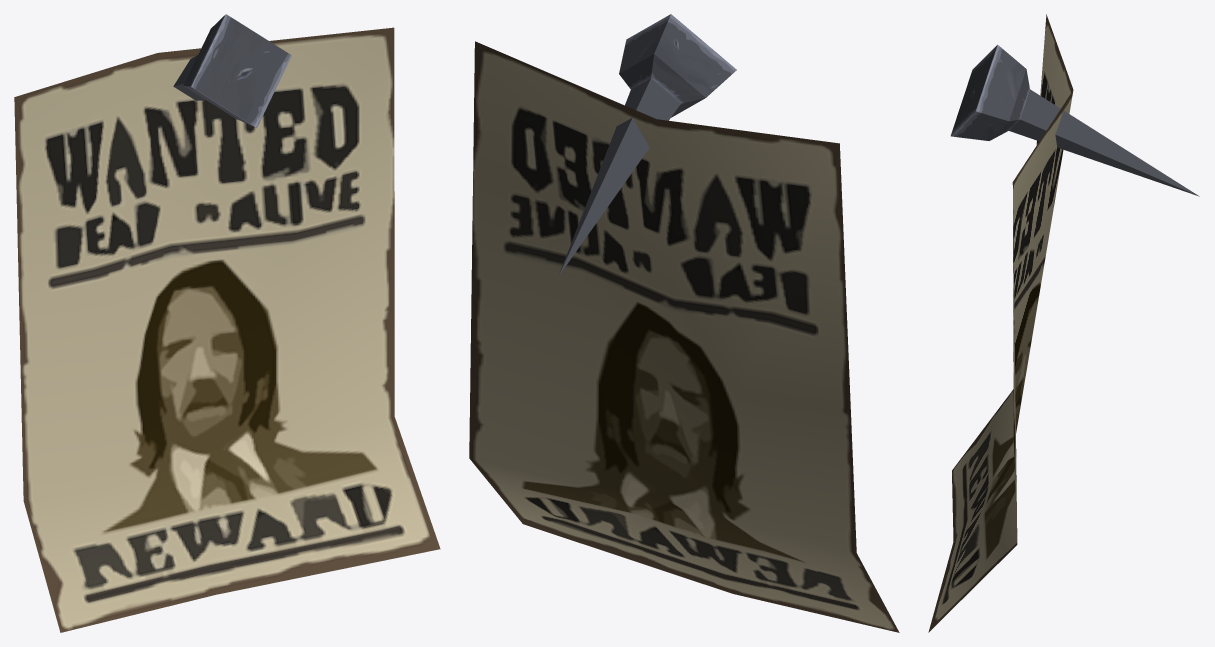
Rendered from poster01.glb.
3 views of the same model, side by side, from view 1: azimuth 30°, elevation 25°; view 2: azimuth 150°, elevation 25°; view 3: azimuth 270°, elevation 25° (orthographic). The views are drawn at different scales.
Visible parts, largest first — view 1: SM_PROP_poster_01; view 2: SM_PROP_poster_01; view 3: SM_PROP_poster_01.
Part boxes in pixels (<box>): SM_PROP_poster_01: <box>14,14,440,632</box>; SM_PROP_poster_01: <box>469,14,899,632</box>; SM_PROP_poster_01: <box>928,14,1199,632</box>.
Size of the model in its own units: 0.3716 by 0.533 by 0.2566.
Materials: 2 (2 with a texture image).
